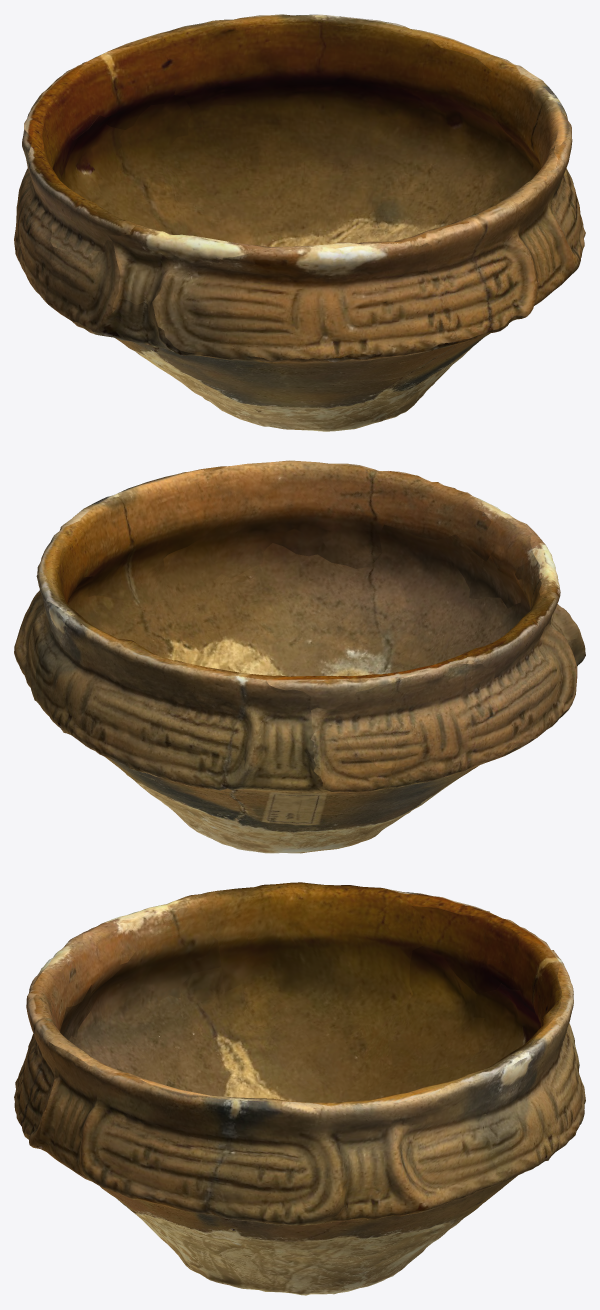
3 renders of one model, top to bottom at view 1: azimuth 30°, elevation 25°; view 2: azimuth 150°, elevation 25°; view 3: azimuth 270°, elevation 25°, orthographic. The views are drawn at different scales.
Visible parts, largest first — view 1: Node 75000; view 2: Node 75000; view 3: Node 75000.
Part boxes in pixels (x1,y1,x2,y2): Node 75000: (14,14,585,431); Node 75000: (14,460,585,853); Node 75000: (14,882,585,1295).
Bounding box in the file's own units: 0.3507 × 0.1725 × 0.3441.
1 material, 1 textured.
